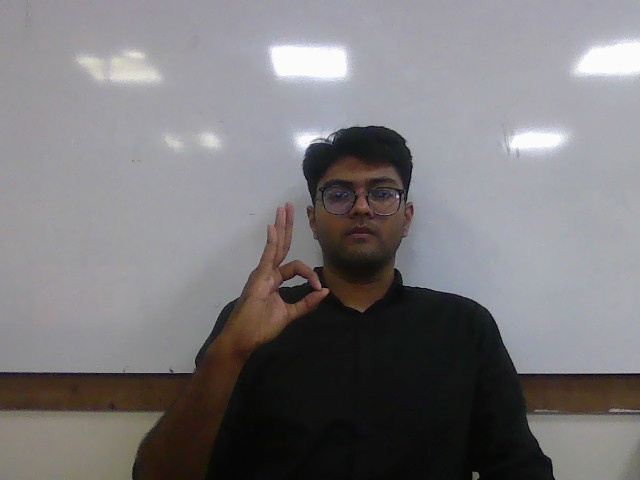Shundor: (245, 201, 331, 349)
